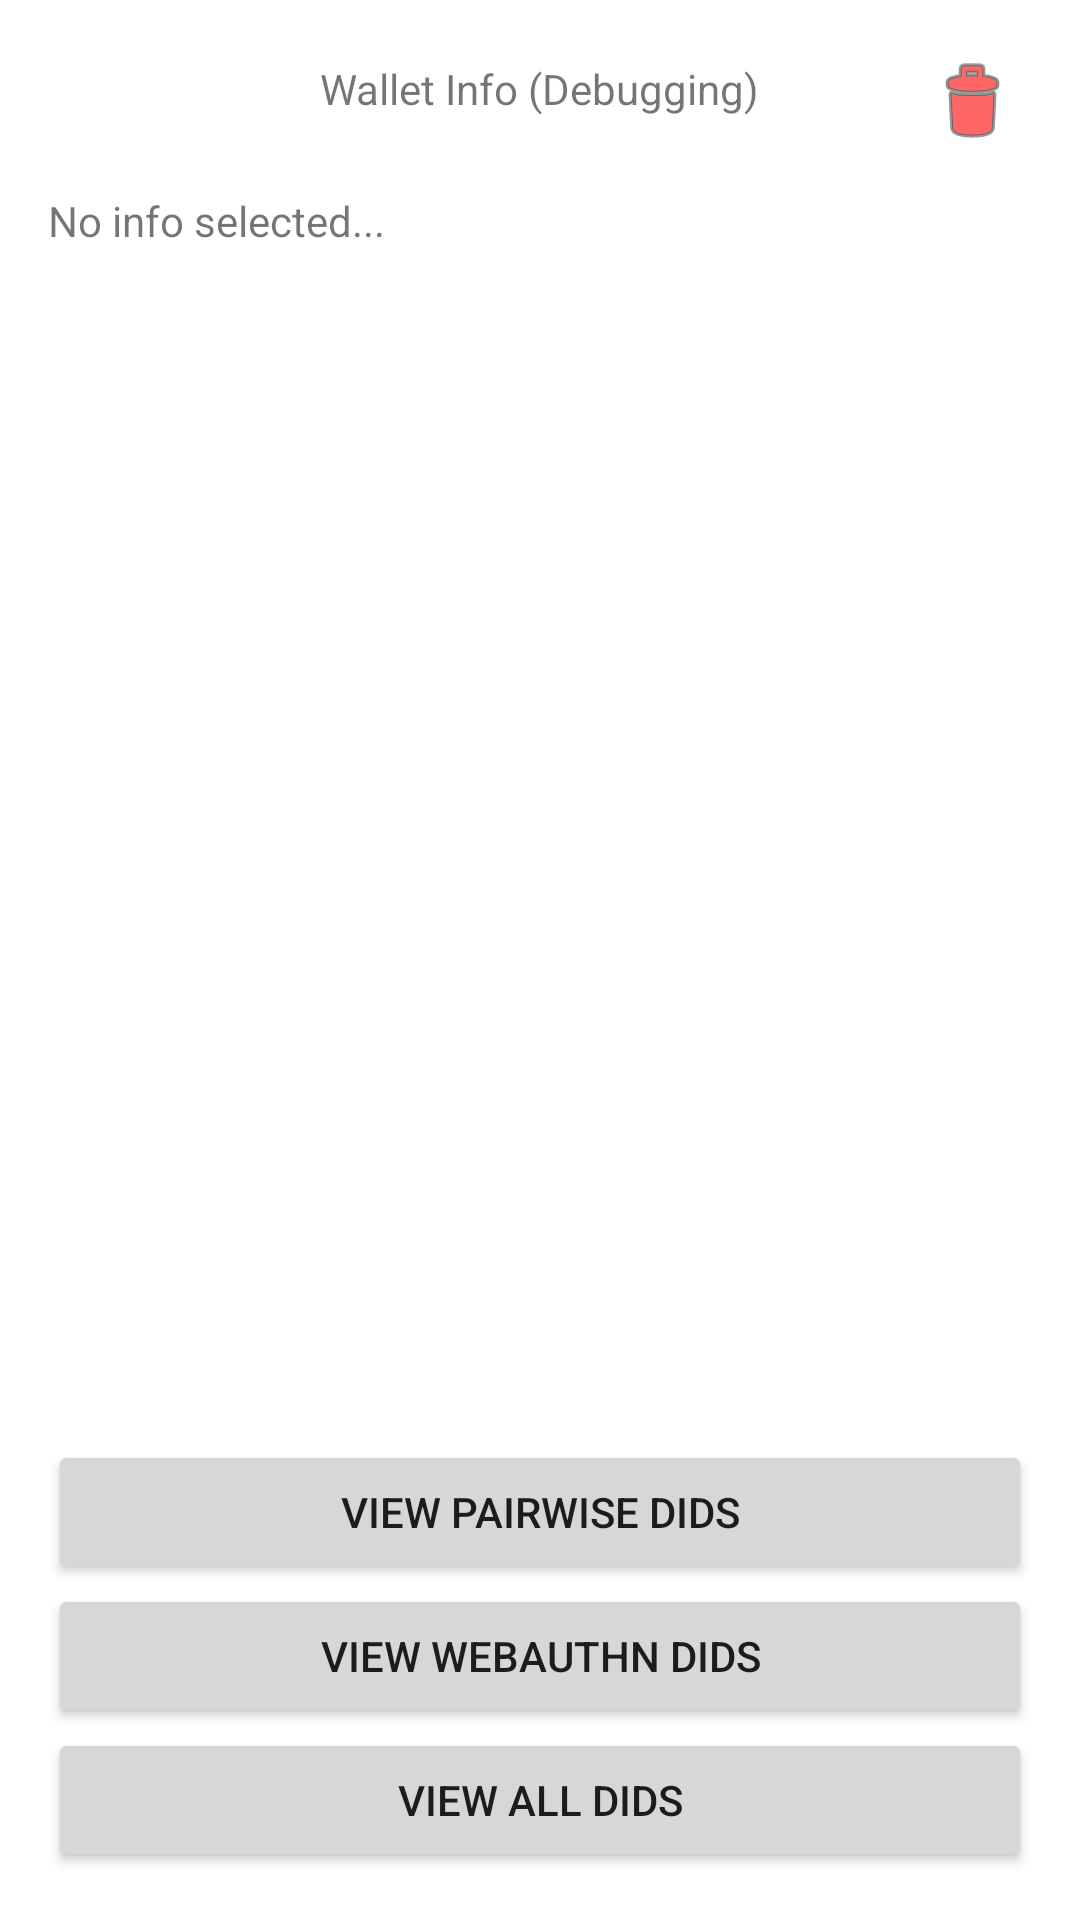

Icons on this 1080px x 1920px Android screen, each with its box as (x1, y1, x2, y2):
delete: (945, 63, 1000, 138)
